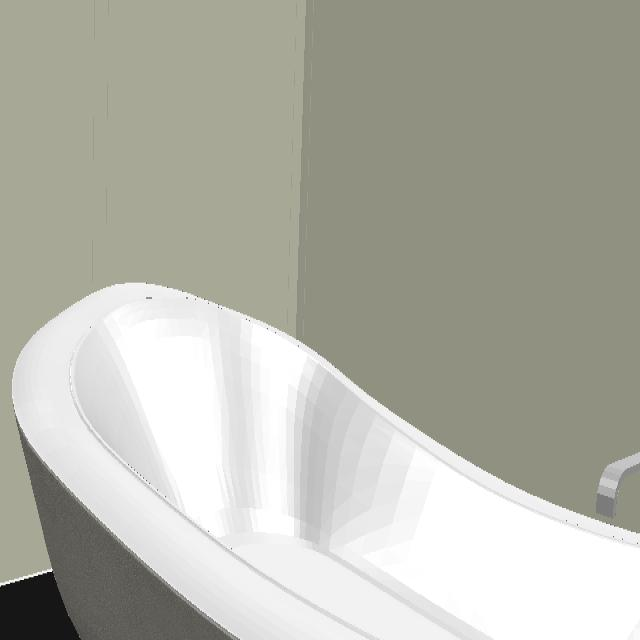bathtube: (11, 284, 640, 640)
